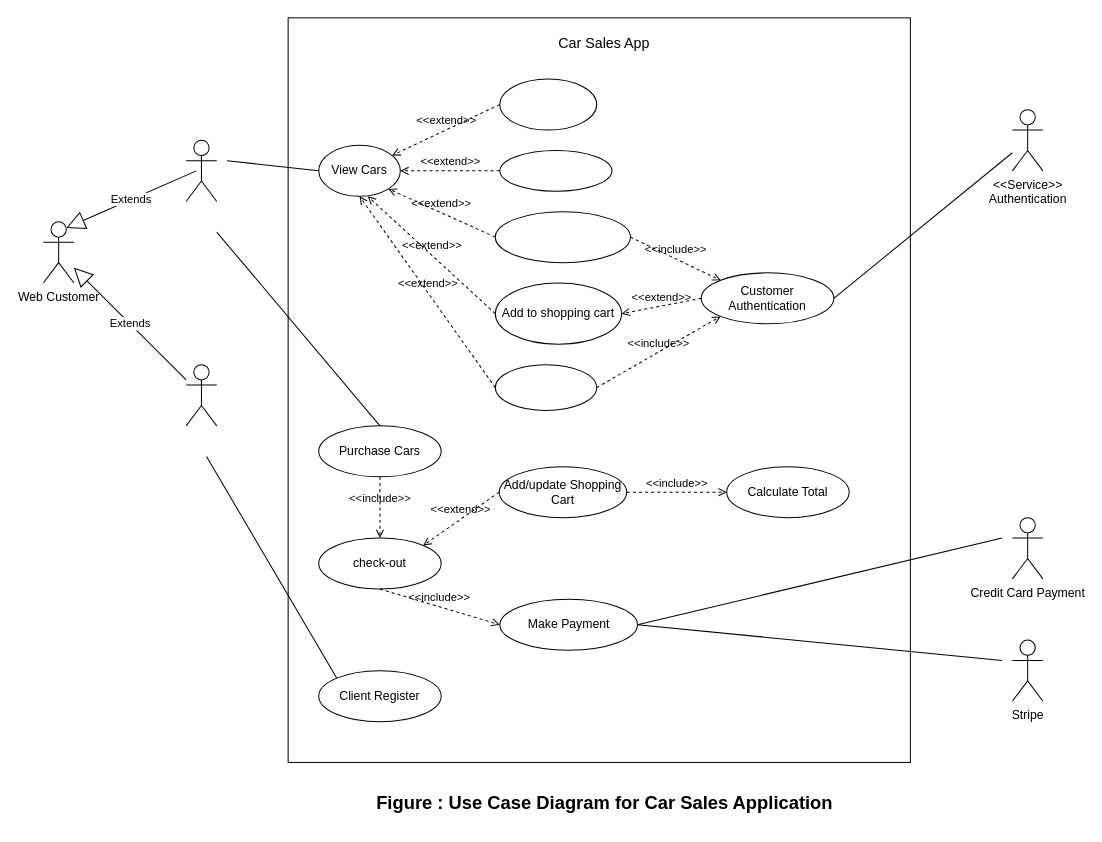
Some shapes in this 1102 by 842 pixel diagram are drawn without their labels. The box of each missing label's shape, as (x1, y1, x2, y2) in pixels:
Add to wishlist: (494, 364, 597, 411)
Browse Cars: (499, 149, 612, 191)
New Customer: (185, 364, 217, 426)
Registered Customer: (185, 139, 217, 201)
Search Cars: (499, 78, 597, 130)
View Recommended Cars: (494, 211, 630, 263)
